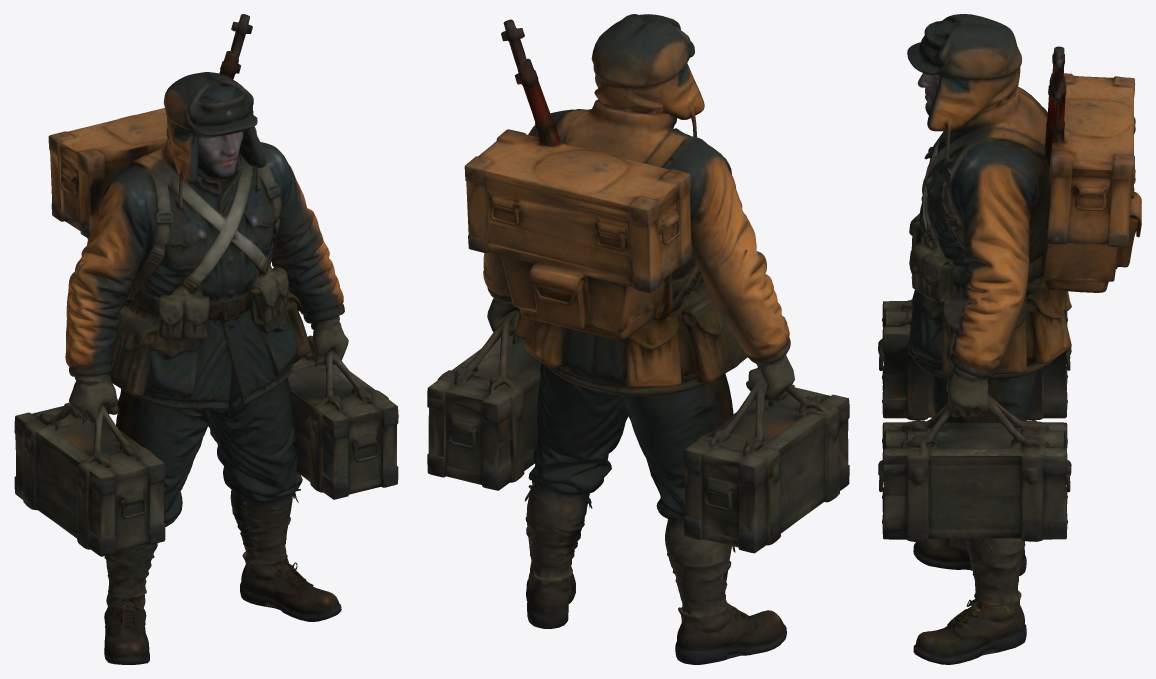
Rendered from char_ammo.glb.
3 renders of one model, left to right at view 1: azimuth 30°, elevation 25°; view 2: azimuth 150°, elevation 25°; view 3: azimuth 270°, elevation 25°, orthographic. The views are drawn at different scales.
Parts seen in each view (by area): view 1: material; view 2: material; view 3: material.
Boxes of the visible parts, bbox=[...] form: material: bbox=[14, 14, 398, 664]; material: bbox=[427, 14, 849, 664]; material: bbox=[878, 14, 1141, 664].
Size of the model in its own units: 0.6233 by 1.09 by 0.435.
1 material, 1 textured.
